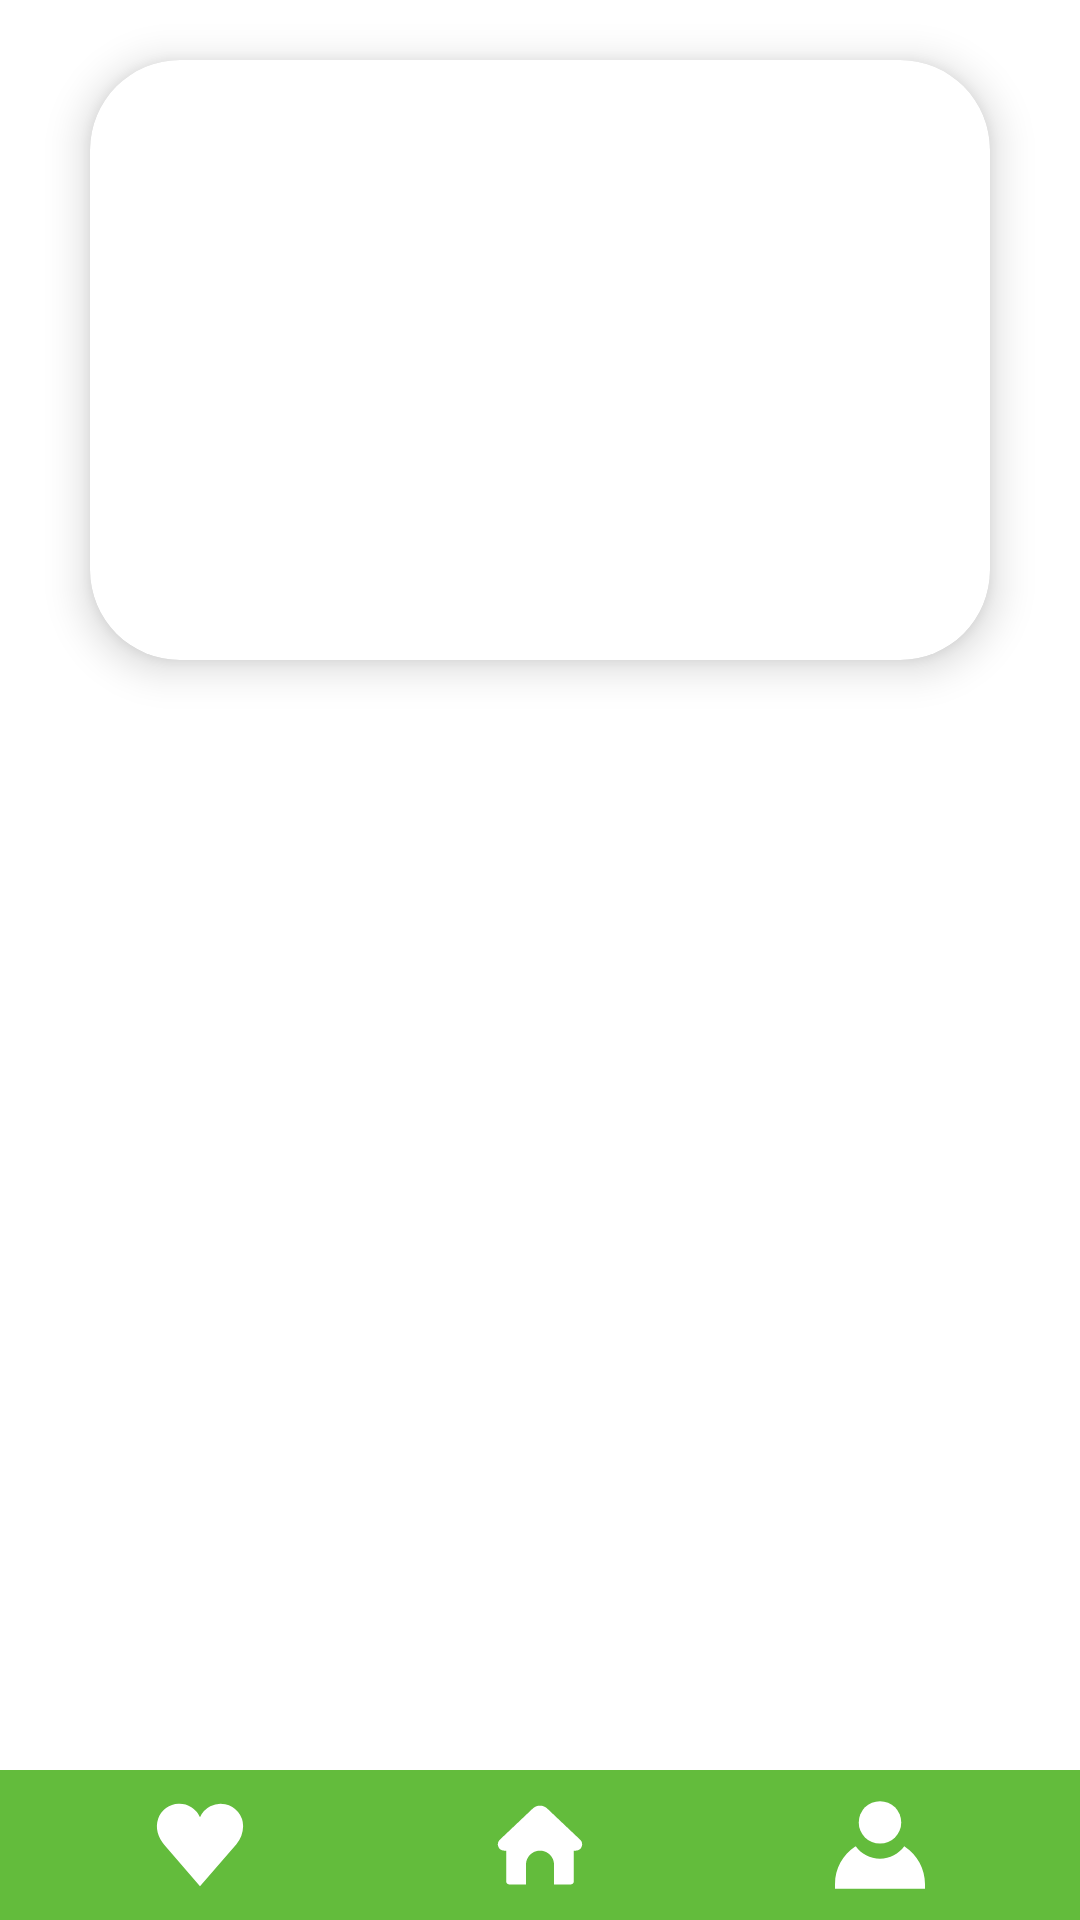

Where to tap for icons on this 1080x1920 app screen, as [x,y]:
favorite: [200,1844]
home: [540,1845]
profile: [880,1845]
